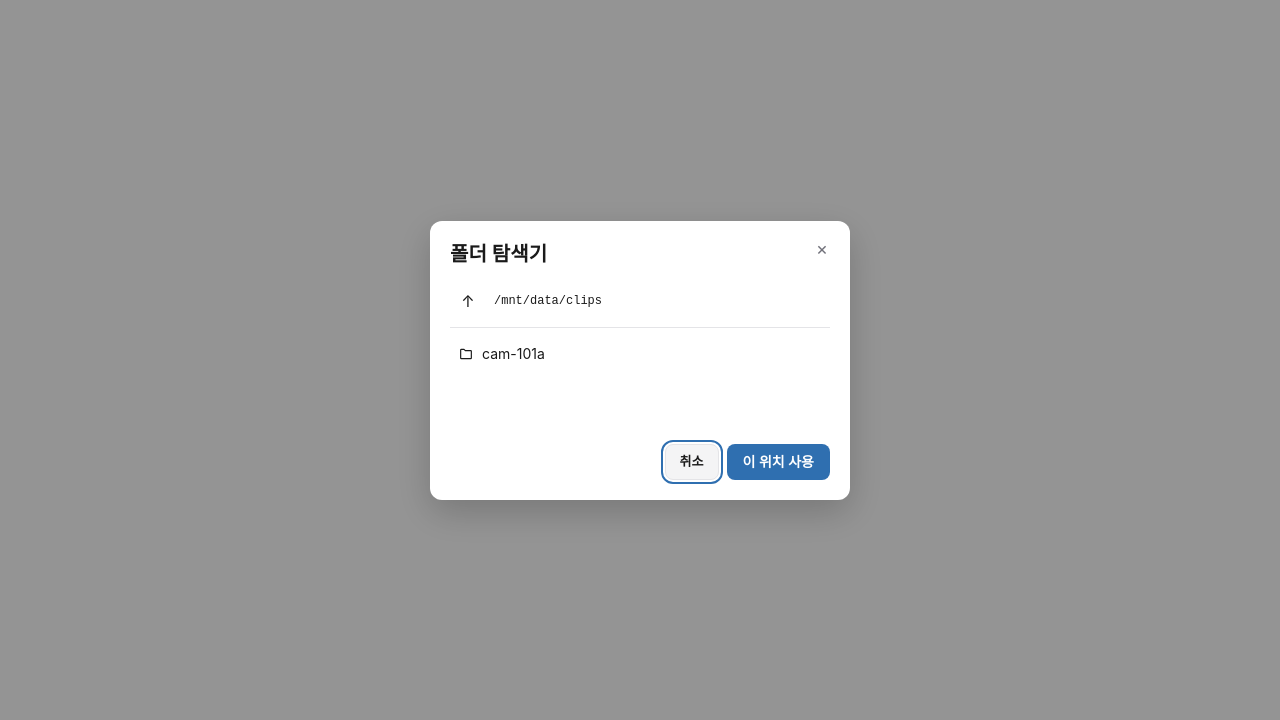
Test: FolderBrowserModal › drills into a subfolder when a directory row is clicked
Click the button "cam-101a" at [513, 353], box x1=450 y1=336 x2=830 y2=372
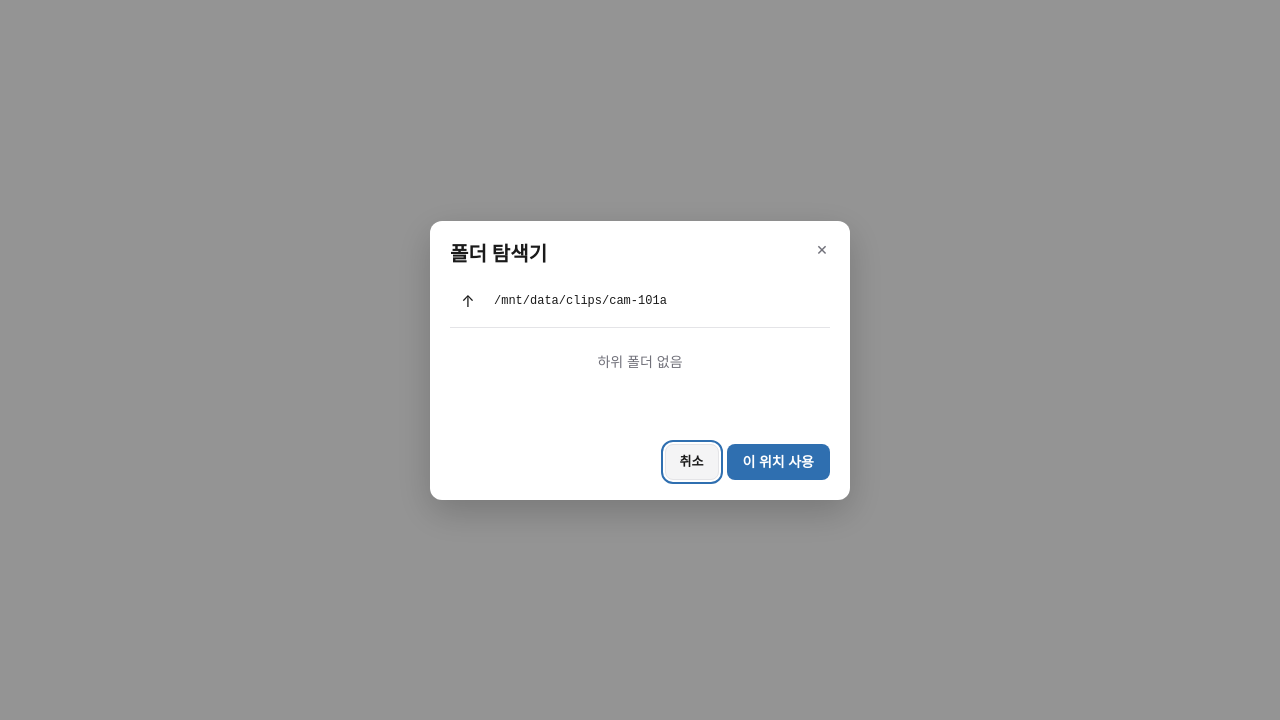
Check: the text "하위 폴더 없음" is shown, box x1=597 y1=352 x2=683 y2=370
